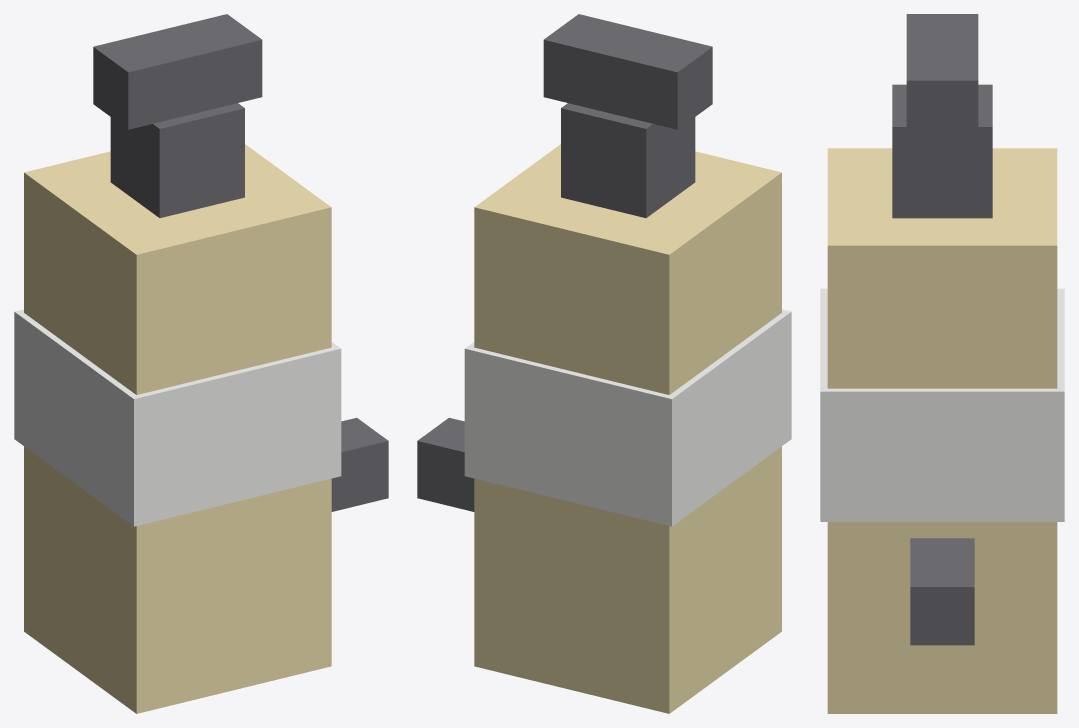
File: placeholder_extinguisher_foam.glb
3 views of the same model, side by side, from view 1: azimuth 30°, elevation 25°; view 2: azimuth 150°, elevation 25°; view 3: azimuth 270°, elevation 25° (orthographic). The views are drawn at different scales.
Visible parts, largest first — view 1: ExtinguisherFoam; view 2: ExtinguisherFoam; view 3: ExtinguisherFoam.
Boxes of the visible parts, x1,y1,x2,y2 form: ExtinguisherFoam: (14, 14, 388, 713); ExtinguisherFoam: (417, 14, 791, 713); ExtinguisherFoam: (820, 14, 1064, 713).
Bounding box in the file's own units: 0.49 × 0.95 × 0.34.
